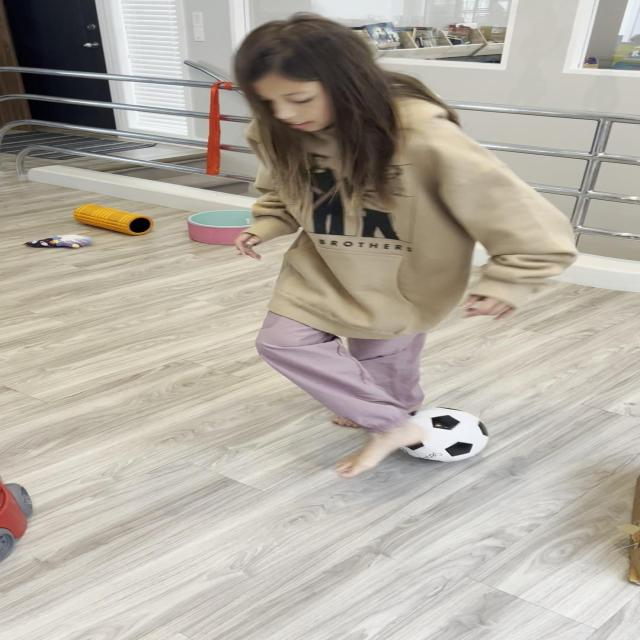Soccer Ball: (390, 407, 492, 462)
